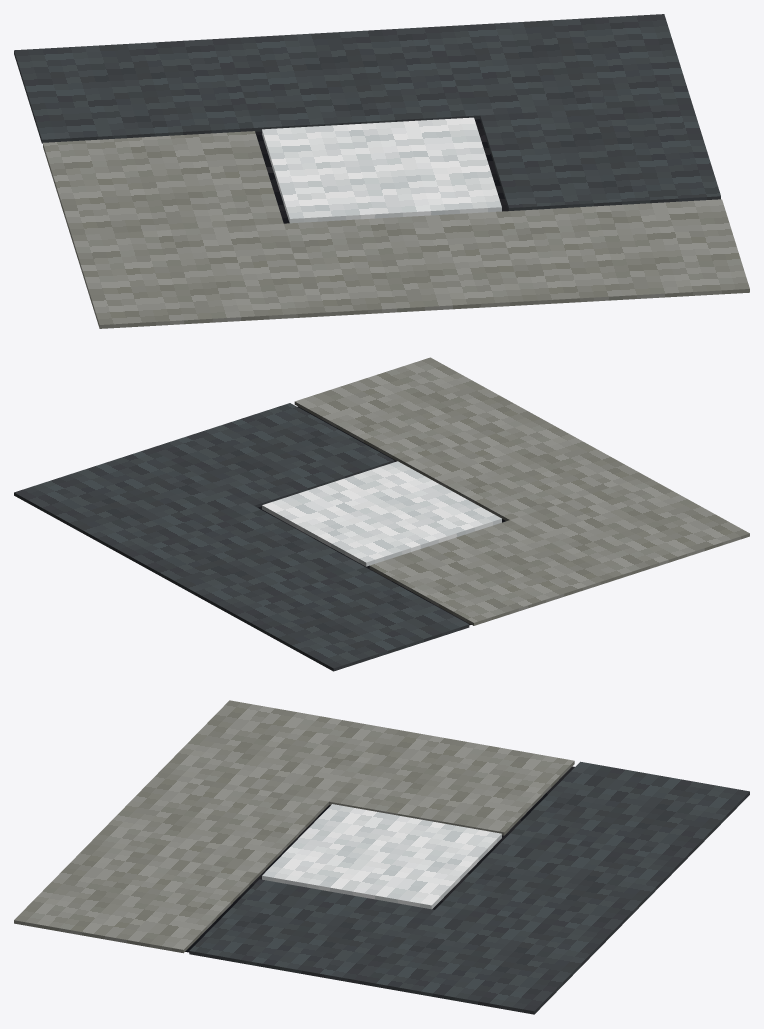
File: tapis.obj
The picture shows the model from 3 angles, top to bottom: view 1: azimuth 30°, elevation 25°; view 2: azimuth 150°, elevation 25°; view 3: azimuth 270°, elevation 25°; orthographic projection. The views are drawn at different scales.
Parts seen in each view (by area): view 1: cube.051, cube.044, cube.050, cube.047, cube.045, cube.049, cube.046, cube.043, cube.048, cube.052; view 2: cube.046, cube.050, cube.051, cube.047, cube.043, cube.044, cube.045, cube.048, cube.049; view 3: cube.050, cube.051, cube.044, cube.046, cube.047, cube.043, cube.049, cube.048, cube.045, cube.052.
Part boxes in pixels (bbox=[...]): cube.051: bbox=[496, 199, 749, 305]; cube.044: bbox=[480, 103, 720, 210]; cube.050: bbox=[438, 14, 691, 119]; cube.047: bbox=[262, 117, 501, 223]; cube.045: bbox=[71, 223, 311, 328]; cube.049: bbox=[284, 212, 523, 316]; cube.046: bbox=[43, 131, 283, 238]; cube.043: bbox=[14, 38, 253, 143]; cube.048: bbox=[226, 26, 465, 131]; cube.052: bbox=[255, 119, 508, 223]; cube.046: bbox=[369, 520, 614, 625]; cube.050: bbox=[14, 448, 260, 556]; cube.051: bbox=[294, 357, 540, 465]; cube.047: bbox=[262, 461, 501, 566]; cube.043: bbox=[229, 567, 469, 671]; cube.044: bbox=[150, 403, 394, 507]; cube.045: bbox=[510, 476, 749, 580]; cube.048: bbox=[125, 509, 364, 613]; cube.049: bbox=[405, 418, 644, 520]; cube.050: bbox=[364, 905, 609, 1014]; cube.051: bbox=[14, 844, 258, 953]; cube.044: bbox=[189, 879, 434, 984]; cube.046: bbox=[329, 730, 574, 835]; cube.047: bbox=[262, 804, 501, 909]; cube.043: bbox=[510, 761, 749, 865]; cube.049: bbox=[89, 772, 328, 876]; cube.048: bbox=[440, 833, 679, 937]; cube.045: bbox=[159, 700, 398, 801]; cube.052: bbox=[185, 766, 574, 952].
Size of the model in its own units: 3.76 by 0.0312 by 3.76.
4 materials, 4 textured.
